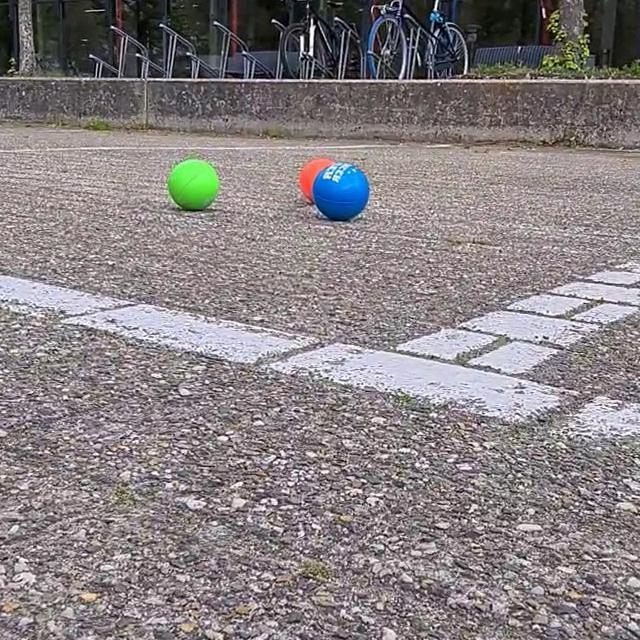ball: (309, 159, 375, 223), (164, 157, 222, 215)
